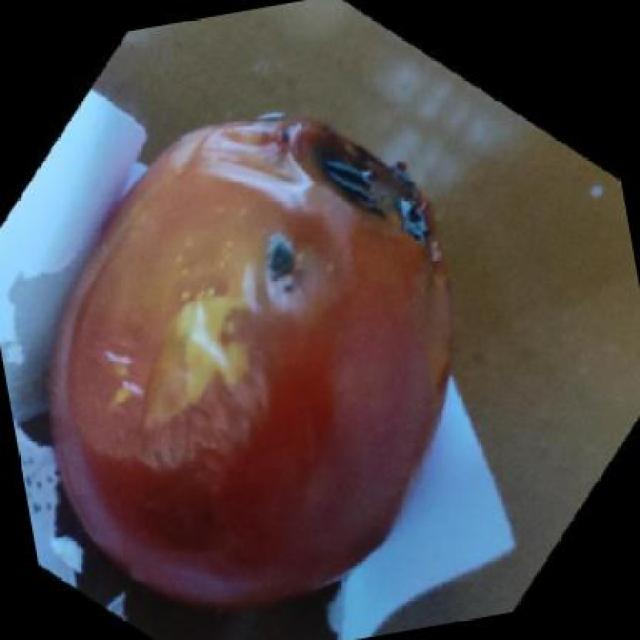overripe tomato: (41, 99, 458, 614)
